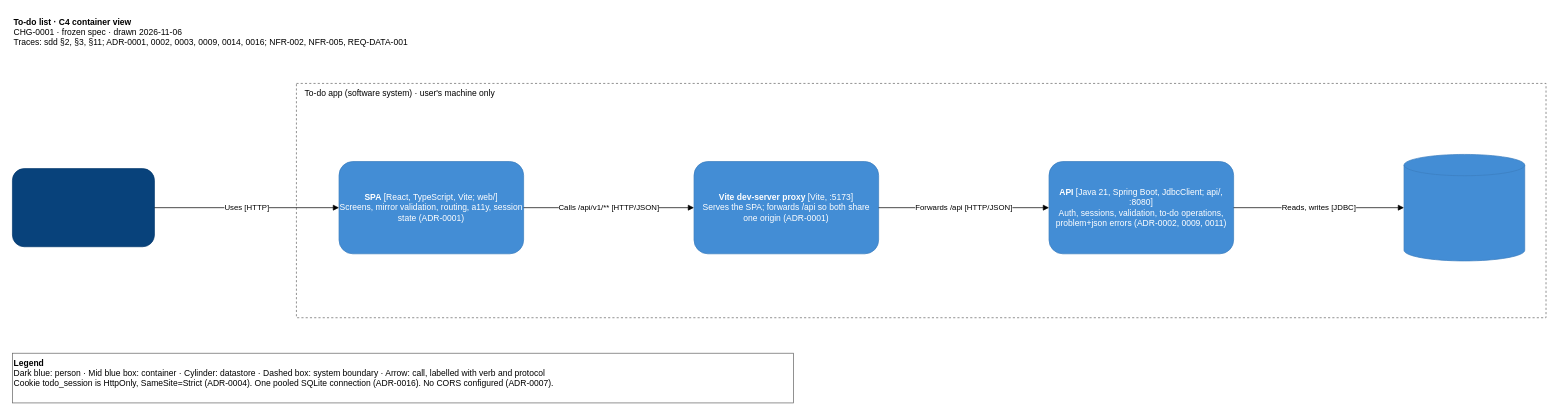
This 1558x415 diagram has some shape labels left out. The centre of each missing label's shape, as x and y in pixels:
"SQLite file [WAL; TODO_DB_PATH] users, sessions, todos; Flyway (ADR-0003, 0014)" belongs at pixel 1464 207.
"User [Person] Uses the to-do app in a browser" belongs at pixel 83 207.
